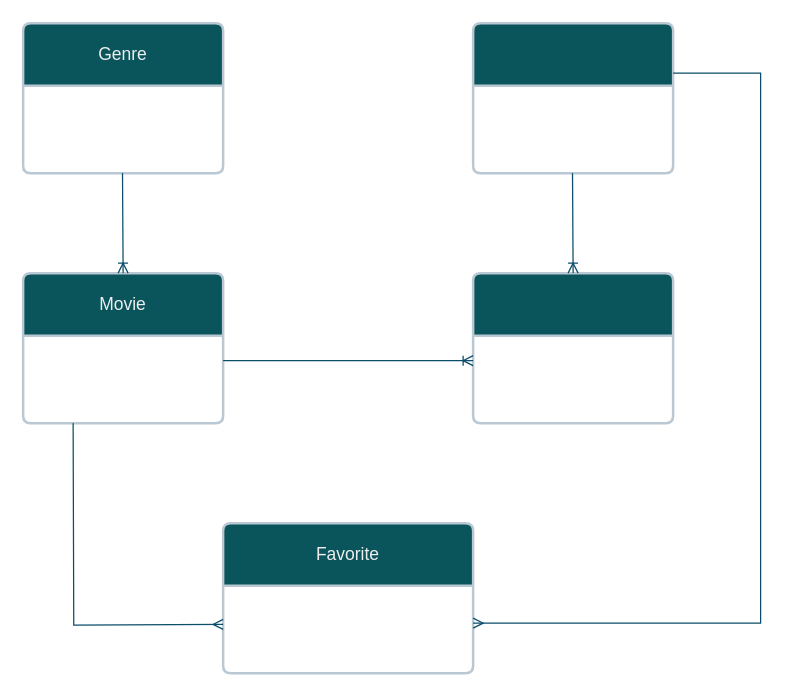
This 793x695 diagram has some shape labels left out. Here are the shapes that lost their labels. From the top down, the centre of each, then its label:
At point 572,97: "User".
At point 572,347: "Review".
